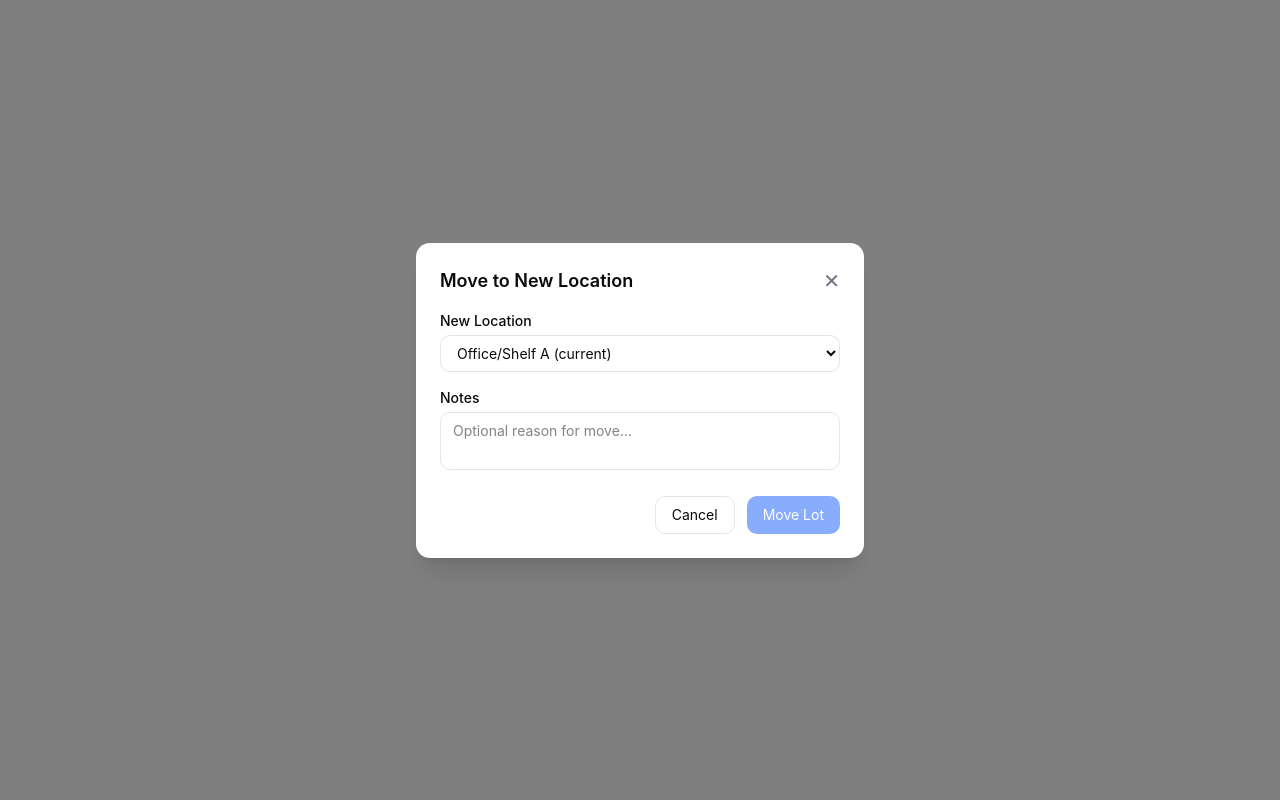
Scenario: MoveModal › submit button state › enables submit when a different location is selected
The width and height of the screenshot is (1280, 800).
Select "Office/Shelf A/Drawer 1" in the dropdown at (640, 353), box [440,334,840,372]
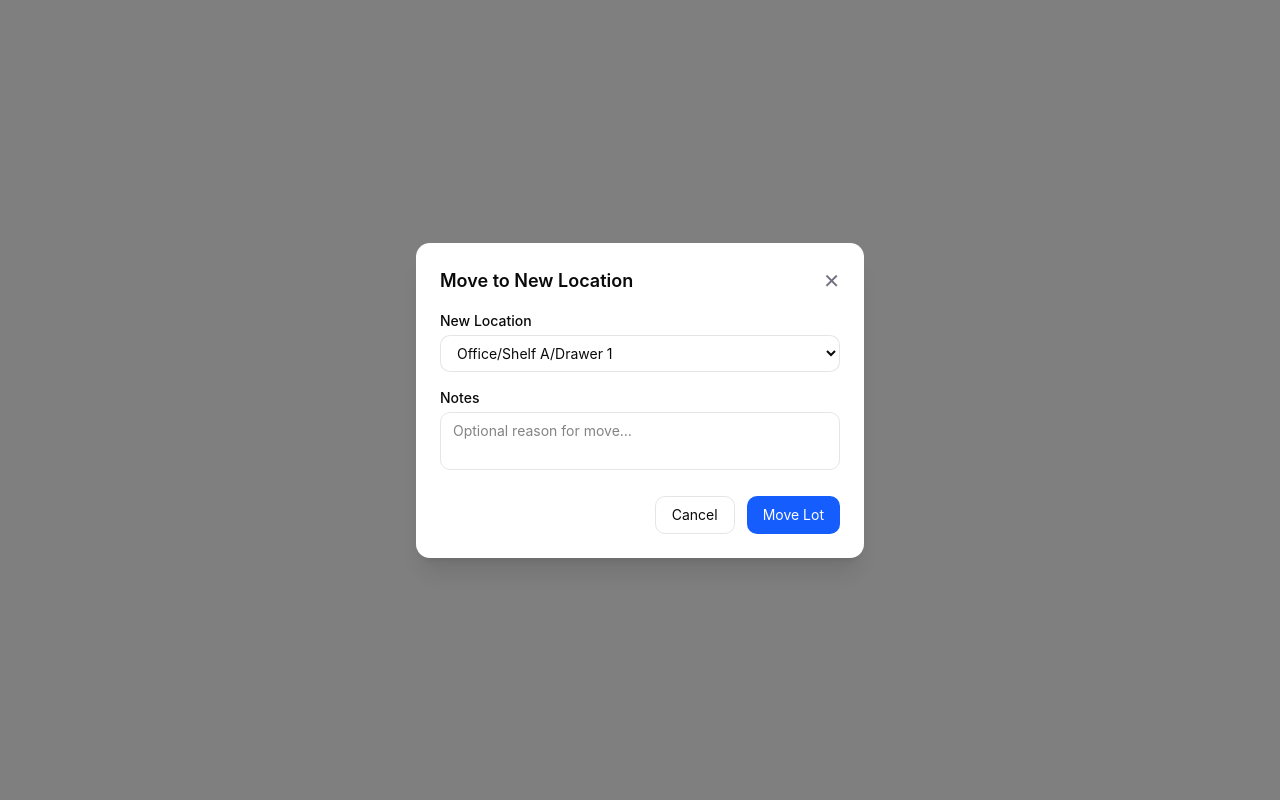
Now the button "Move Lot" is enabled, box [747,496,840,534]
